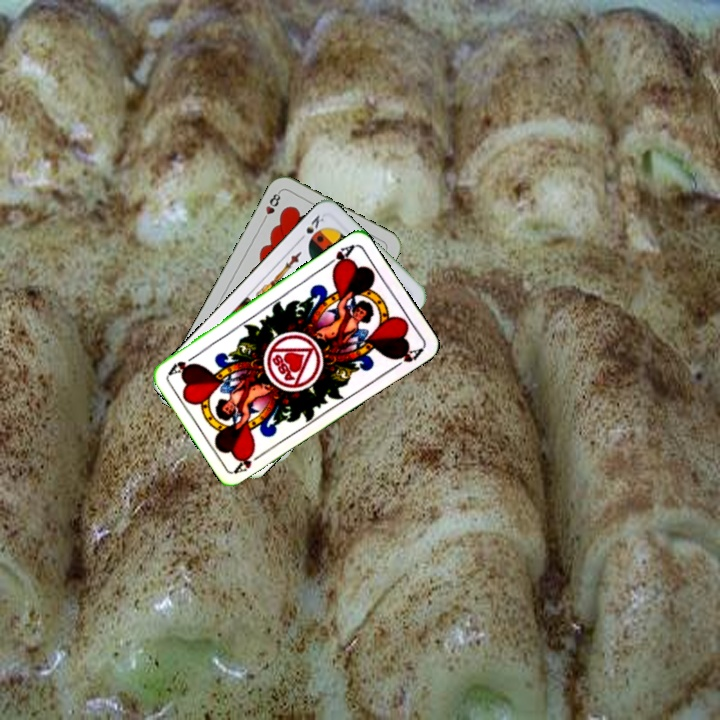H8: (258, 187, 283, 225)
HA: (321, 240, 357, 273), (231, 447, 268, 476)
SK: (294, 211, 327, 244)
